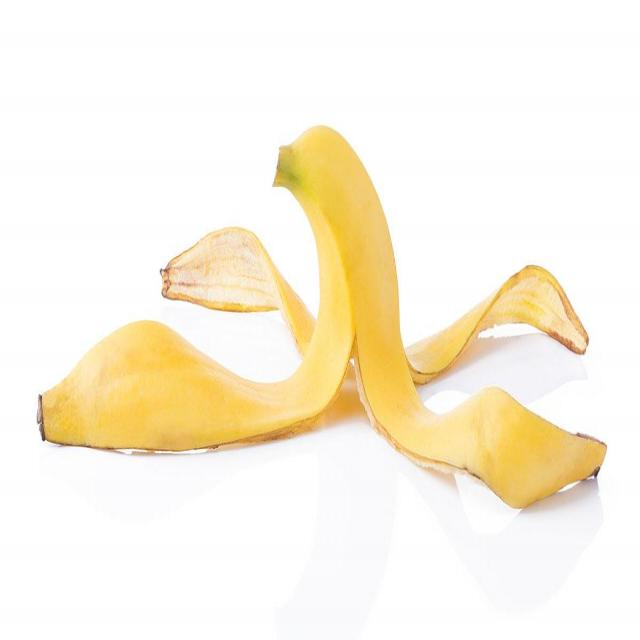banana: (39, 127, 617, 533)
